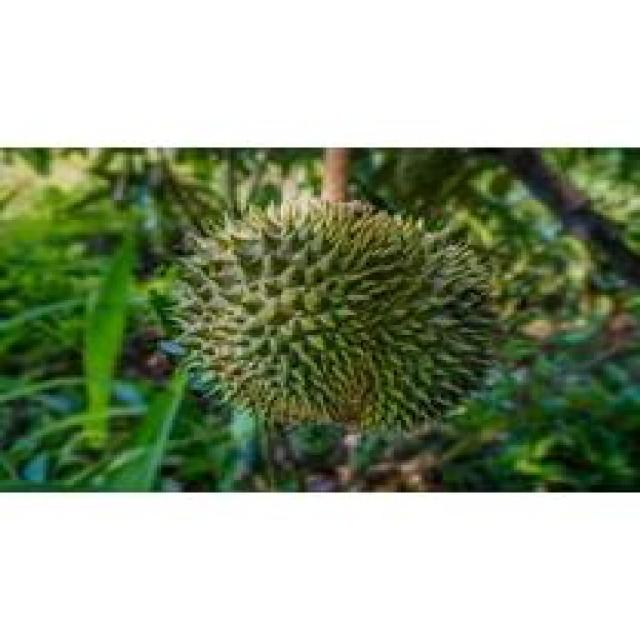fruit: (157, 175, 523, 460)
